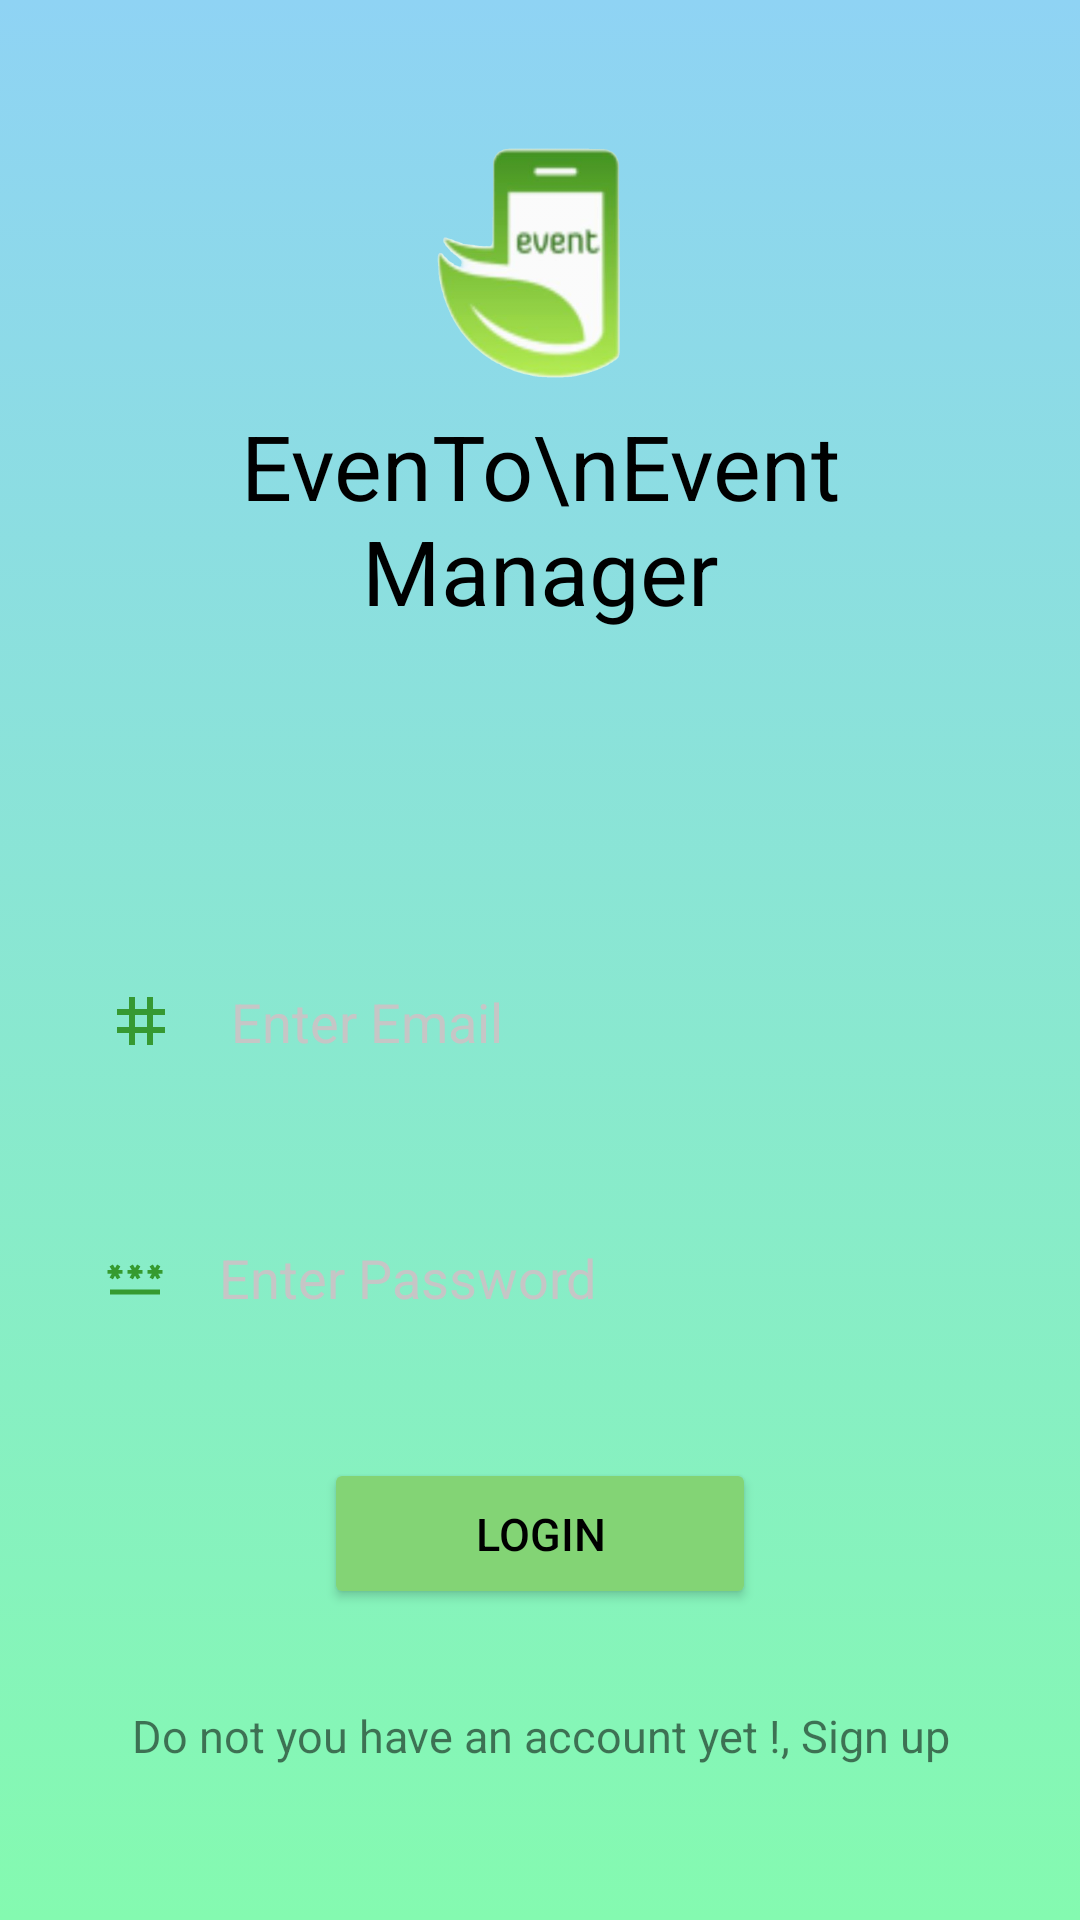

Icons on this 1080 × 1920 Android screen, each with the point to tap as point (x, y):
stu pass: point (135, 1279)
